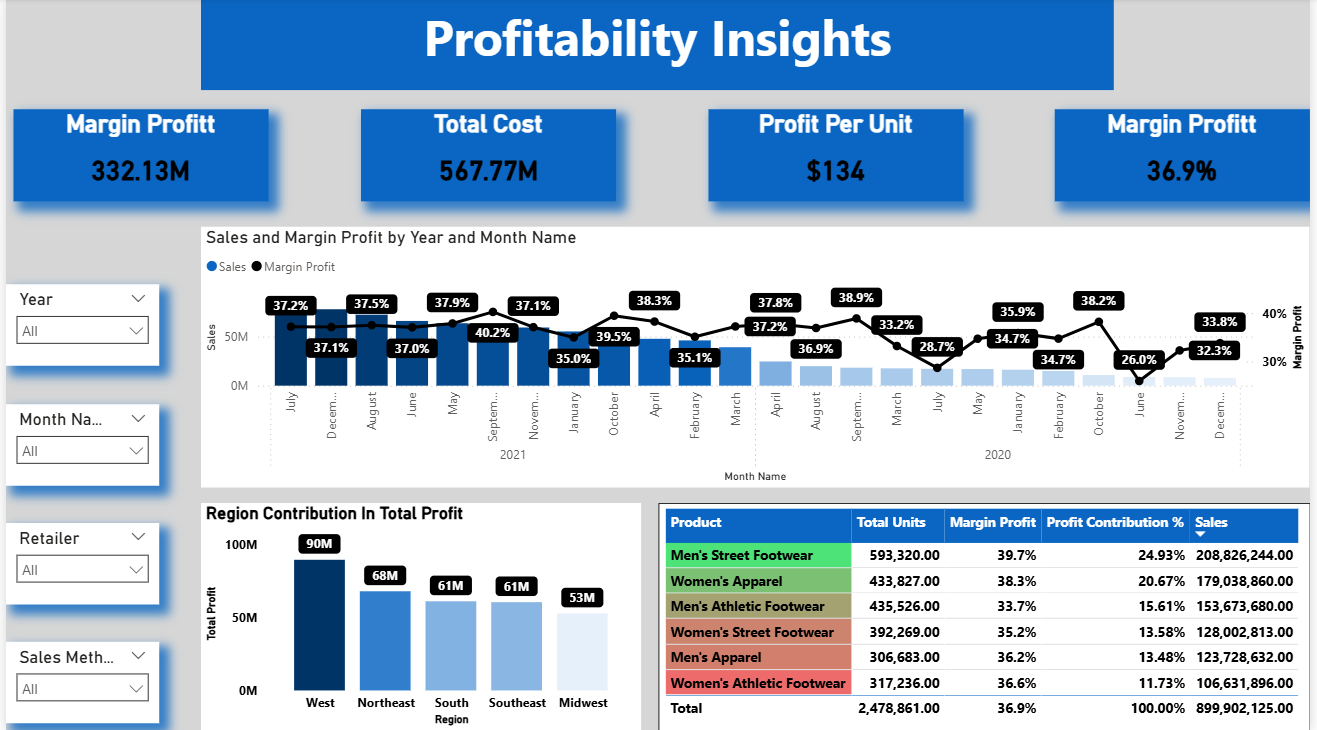

This screenshot's page, from the dashboard's own definition file:
{"tool":"powerbi","page":{"name":"Profitability Insights","canvas":[1280,720],"ordinal":5},"visuals":[{"type":"clusteredColumnChart","title":"Region Contribution In Total Profit","fields":{"Category":["Sales.Region"],"Y":["Sales.Total Profit"]},"box":[192,496,432,224],"z":2000},{"type":"lineClusteredColumnComboChart","fields":{"Category":["Dates.Year","Dates.Month Name"],"Y":["Sales.Sales"],"Y2":["Sales.Margin Profit"]},"box":[192,224,1088,256],"z":3000},{"type":"tableEx","title":"Product Performance: Volume vs Profitability","fields":{"Values":["Sales.Product","Sales.Total Units","Sales.Margin Profit","Sales.Profit Contribution %","Sales.Sales"]},"box":[640,496,640,224],"z":4000},{"type":"card","title":"Margin Profitt","fields":{"Values":["Sales.Margin Profit"]},"box":[1030,108.9,250,90],"z":5000},{"type":"card","title":"Total Cost","fields":{"Values":["Sales.Total Cost"]},"box":[348.5,108.9,250,90],"z":6000},{"type":"card","title":"Profit Per Unit","fields":{"Values":["Sales.Profit Per Unit"]},"box":[689.8,108.9,250,90],"z":7000},{"type":"slicer","fields":{"Values":["Dates.Year"]},"box":[0,281.3,150,80],"z":8000},{"type":"slicer","fields":{"Values":["Sales.Sales Method"]},"box":[0,632.5,150,80],"z":9000},{"type":"slicer","fields":{"Values":["Retailers.Retailer"]},"box":[0,515.4,150,80],"z":10000},{"type":"card","title":"Margin Profitt","fields":{"Values":["Sales.Total Profit"]},"box":[7.3,108.9,250,90],"z":11000},{"type":"slicer","fields":{"Values":["Dates.Month Name"]},"box":[0,398.4,150,80],"z":11001},{"type":"textbox","box":[192,0,896,90],"z":11002}]}

Visuals, with their boxes in screenshot pixels (x1, y1, x2, y2), scaled from the page's 1280x720 canvas onto the 1317x730 screenshot:
"Region Contribution In Total Profit" clusteredColumnChart: locate(198, 503, 642, 729)
lineClusteredColumnComboChart - Dates.Year x Dates.Month Name: locate(198, 227, 1316, 487)
"Product Performance: Volume vs Profitability" tableEx: locate(658, 503, 1316, 729)
"Margin Profitt" card: locate(1060, 110, 1316, 202)
"Total Cost" card: locate(359, 110, 616, 202)
"Profit Per Unit" card: locate(710, 110, 967, 202)
slicer - Dates.Year: locate(0, 285, 154, 366)
slicer - Sales.Sales Method: locate(0, 641, 154, 722)
slicer - Retailers.Retailer: locate(0, 523, 154, 604)
"Margin Profitt" card: locate(8, 110, 265, 202)
slicer - Dates.Month Name: locate(0, 404, 154, 485)
textbox: locate(198, 0, 1119, 91)
